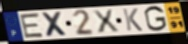2: (71, 9, 95, 37)
E: (18, 12, 46, 39)
G: (143, 5, 169, 32)
K: (121, 8, 144, 32)
X: (40, 11, 71, 38), (91, 9, 121, 34)
